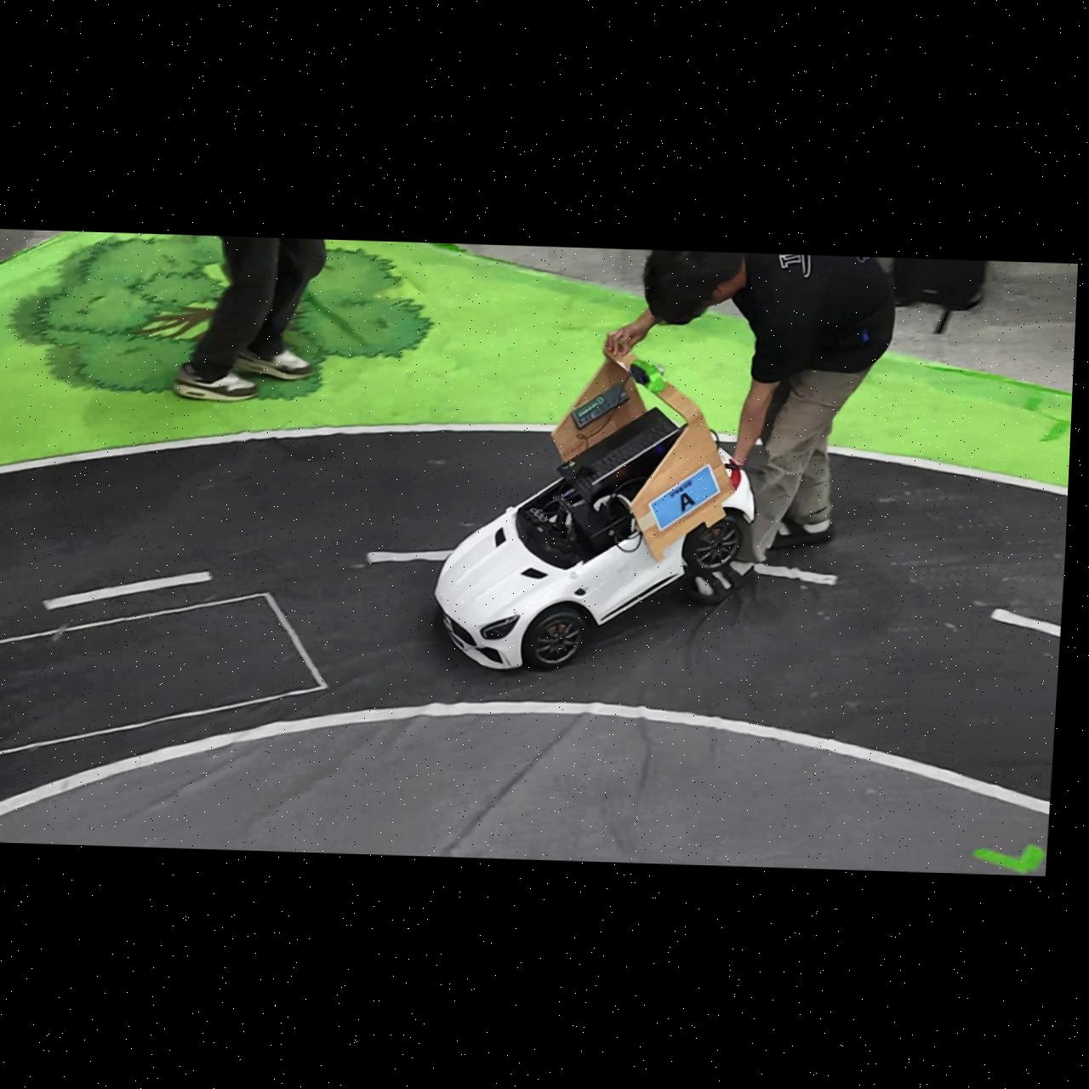broken_line: (44, 571, 212, 610), (991, 608, 1060, 638), (754, 563, 838, 586), (367, 550, 456, 563)
